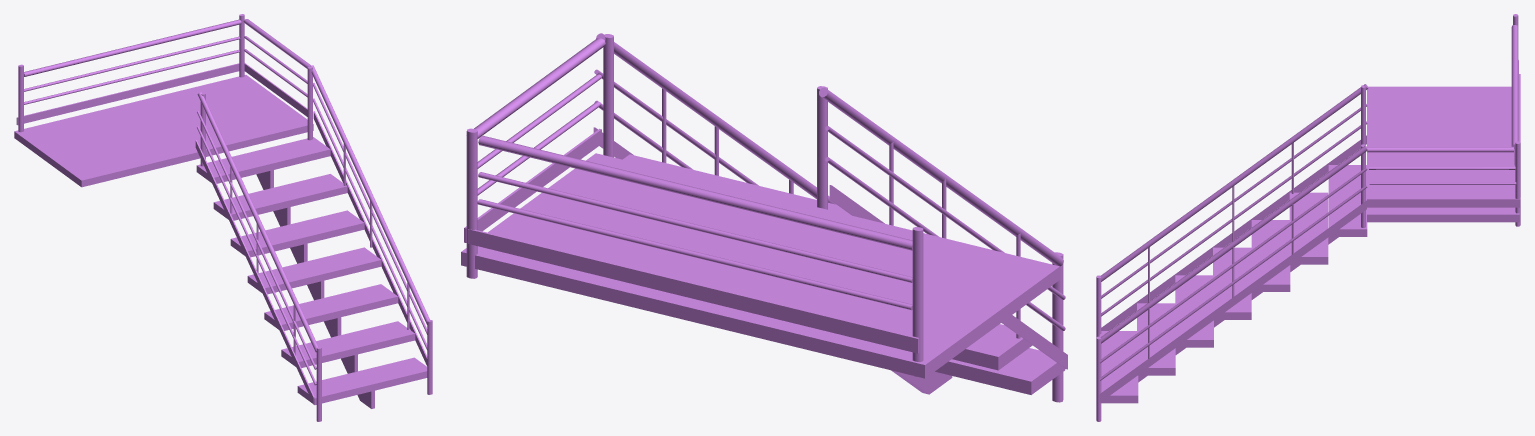
The model's file is Ev_company_exit_stail003.fbx.
The picture shows the model from 3 angles, left to right: view 1: azimuth 30°, elevation 25°; view 2: azimuth 150°, elevation 25°; view 3: azimuth 270°, elevation 25°; orthographic projection. The views are drawn at different scales.
Visible parts, largest first — view 1: Ev_company_exit_stail003; view 2: Ev_company_exit_stail003; view 3: Ev_company_exit_stail003.
Boxes of the visible parts, box(x1,y1,x2,y2) form: Ev_company_exit_stail003: box(14, 14, 432, 421); Ev_company_exit_stail003: box(461, 33, 1067, 402); Ev_company_exit_stail003: box(1096, 14, 1520, 421).
Size of the model in its own units: 200 by 204 by 278.
